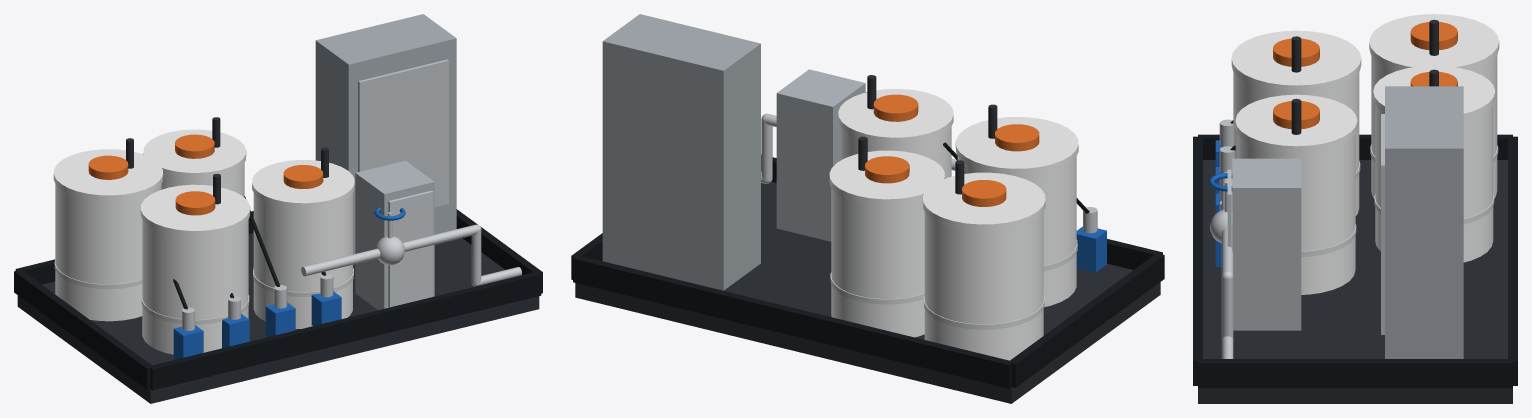
File: Chemical dosing.glb
The picture shows the model from 3 angles, left to right: view 1: azimuth 30°, elevation 25°; view 2: azimuth 150°, elevation 25°; view 3: azimuth 270°, elevation 25°; orthographic projection. The views are drawn at different scales.
Parts seen in each view (by area): view 1: Asset; view 2: Asset; view 3: Asset.
Part boxes in pixels (x1,y1,x2,y2): Asset: [14, 14, 542, 403]; Asset: [571, 14, 1164, 403]; Asset: [1193, 14, 1517, 403].
Size of the model in its own units: 2.75 by 1.42 by 1.65.
